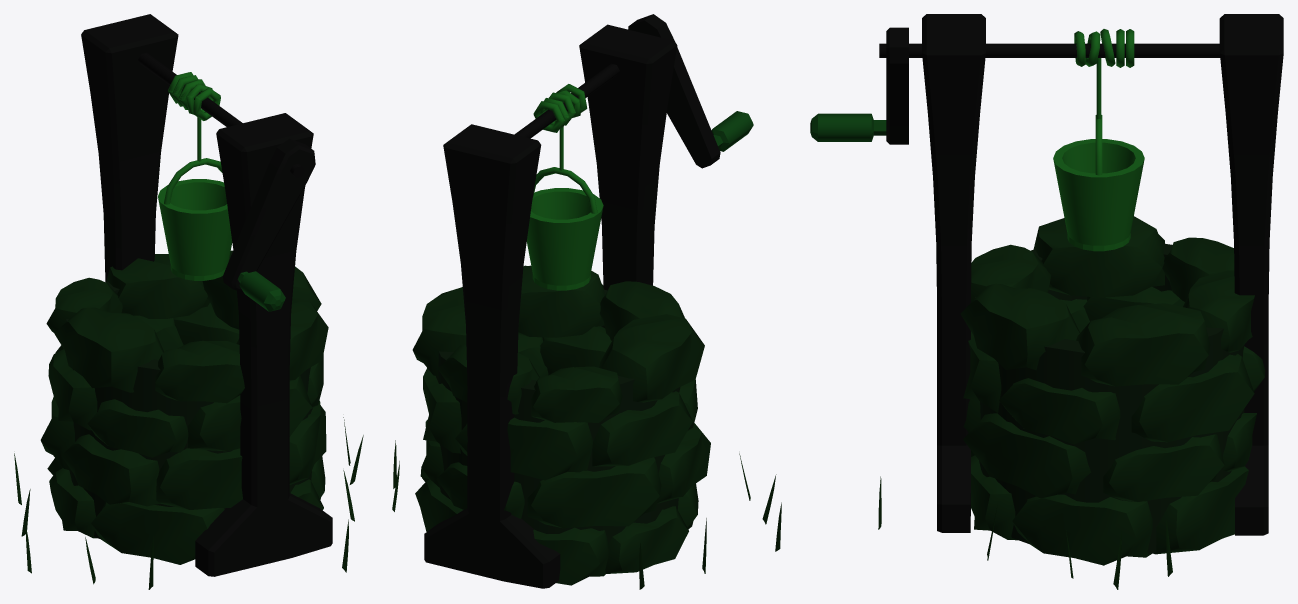
The model's file is SM_Well.fbx.
The picture shows the model from 3 angles, left to right: view 1: azimuth 30°, elevation 25°; view 2: azimuth 150°, elevation 25°; view 3: azimuth 270°, elevation 25°; orthographic projection. The views are drawn at different scales.
Parts seen in each view (by area): view 1: Well; view 2: Well; view 3: Well.
Part boxes in pixels (left/top/right/bottom): Well: left=14, top=14, right=363, bottom=589; Well: left=392, top=14, right=781, bottom=589; Well: left=810, top=14, right=1283, bottom=589.
Size of the model in its own units: 32.41 by 37.87 by 33.93.
